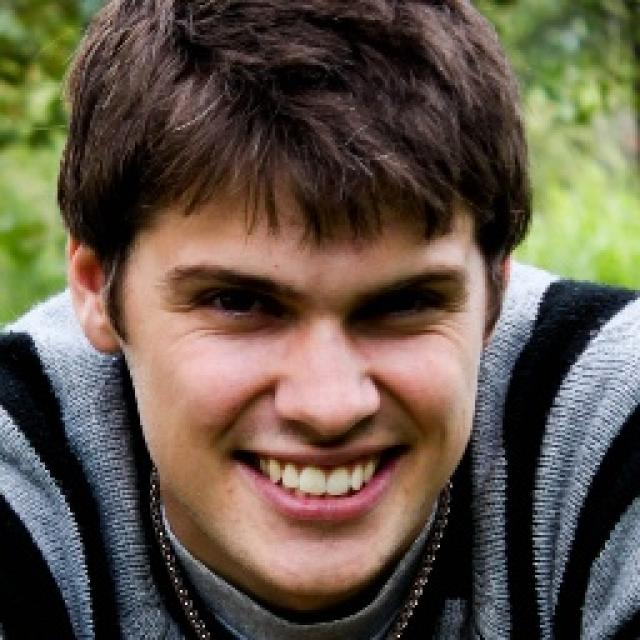earlobe: (84, 310, 124, 356), (480, 298, 500, 347)
eye: (368, 290, 454, 327), (191, 287, 277, 323)
nose: (276, 412, 374, 447)
wholeear: (66, 214, 124, 356), (480, 220, 514, 346)
